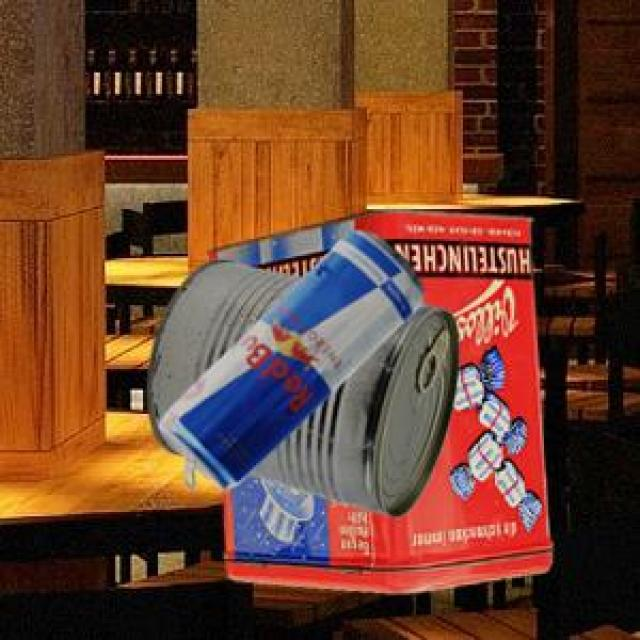logam: (205, 206, 549, 590), (144, 257, 455, 513), (157, 227, 419, 487)
